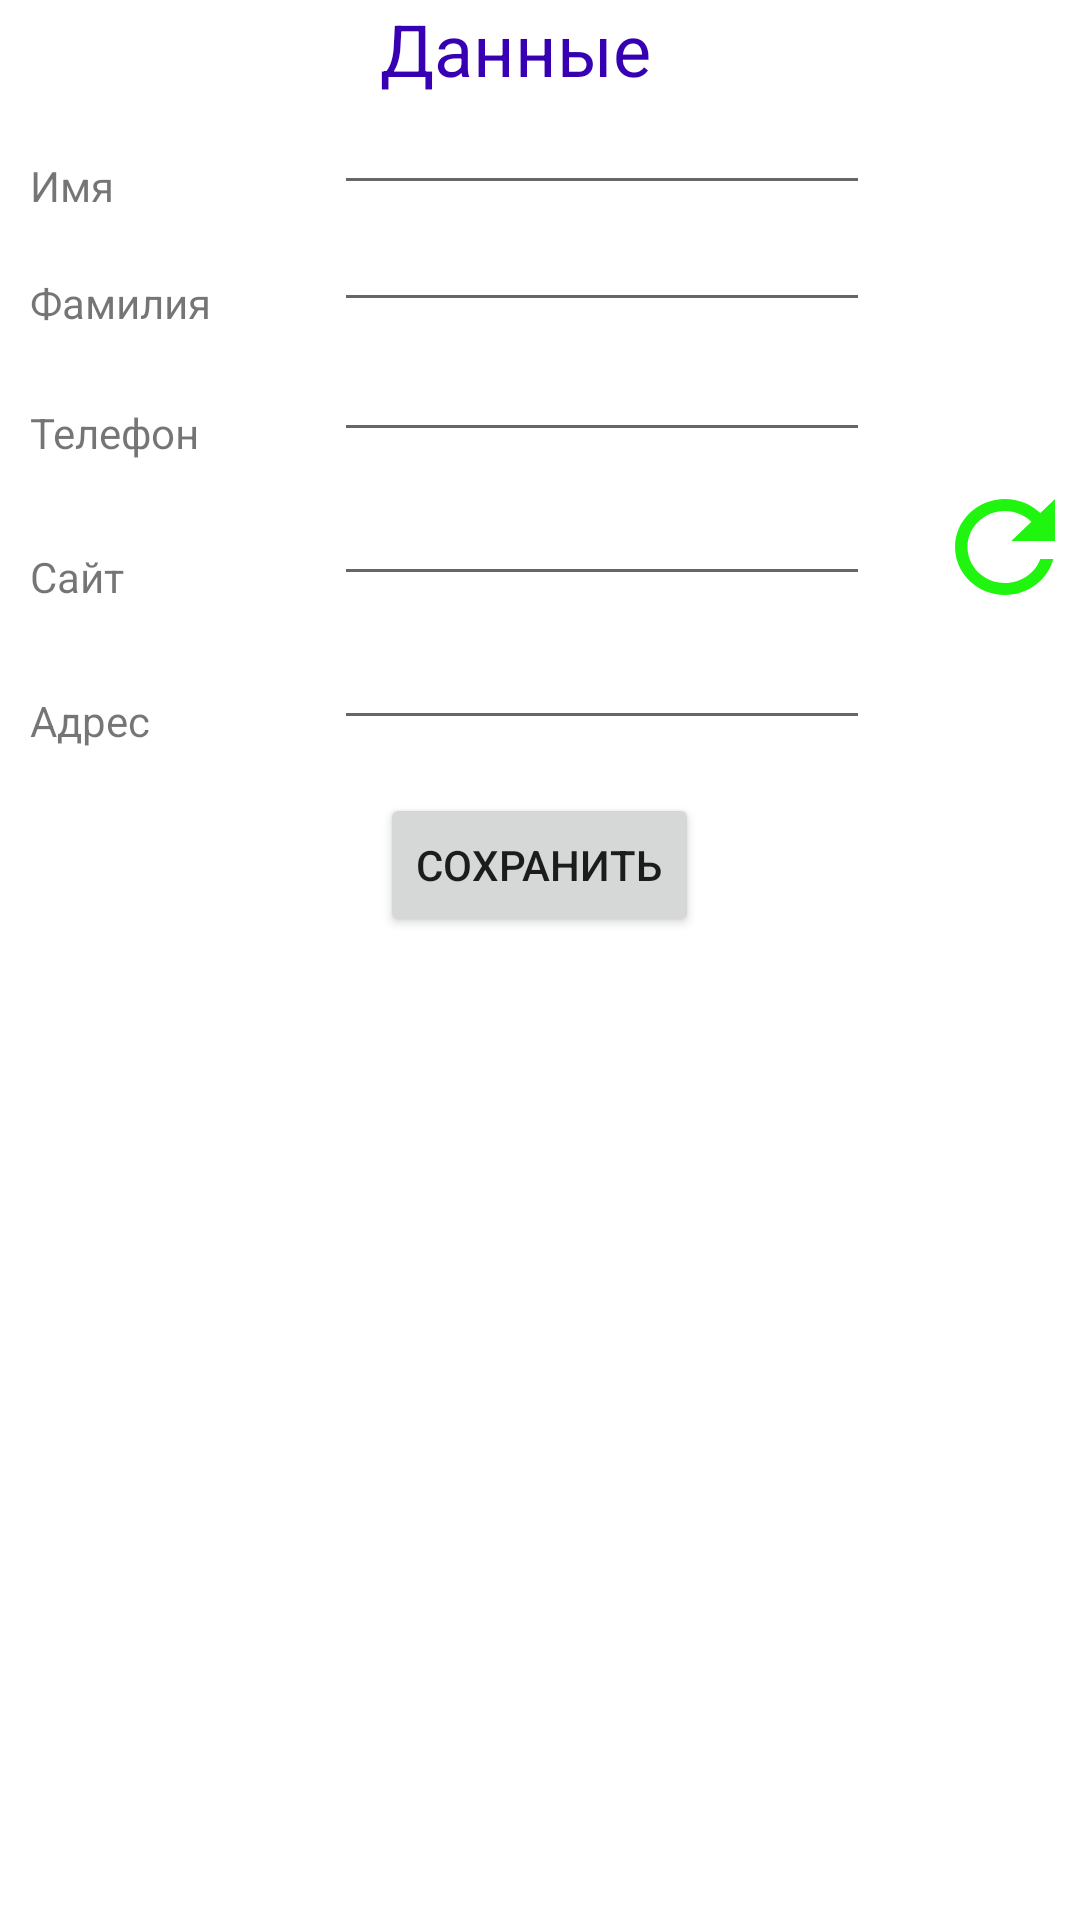

Named icons in this screenshot (1080 × 1920) and their centers, [x,y]:
refresh: [1005,547]
